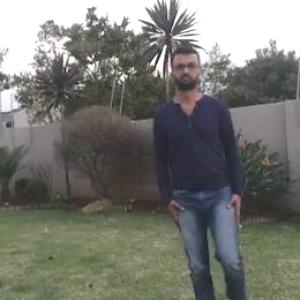follow: (148, 7, 252, 299)
